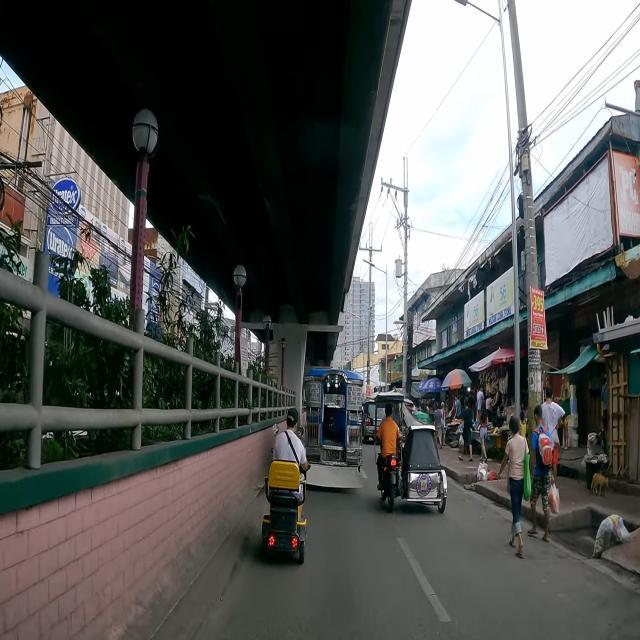car: (363, 399, 387, 441)
jeepney: (304, 367, 364, 489)
tricycle: (374, 394, 447, 514)
